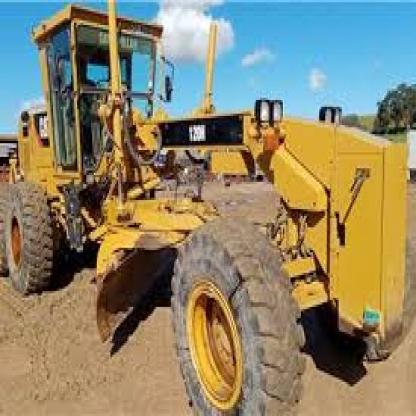bull_dozer/loader/grader: (6, 3, 413, 412)
